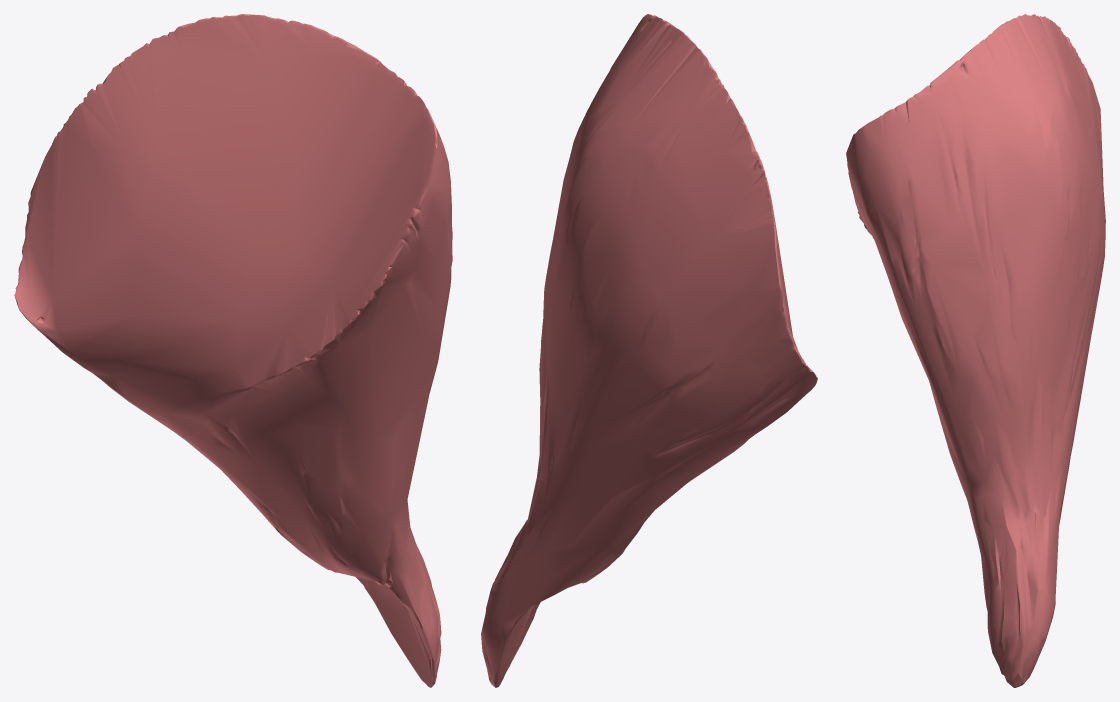
3 views of the same model, side by side, from view 1: azimuth 30°, elevation 25°; view 2: azimuth 150°, elevation 25°; view 3: azimuth 270°, elevation 25° (orthographic). The views are drawn at different scales.
Visible parts, largest first — view 1: FJ1420M; view 2: FJ1420M; view 3: FJ1420M.
Boxes of the visible parts, x1,y1,x2,y2 form: FJ1420M: (14, 14, 452, 687); FJ1420M: (481, 14, 817, 687); FJ1420M: (846, 14, 1105, 687).
Bounding box in the file's own units: 0.077 × 0.1392 × 0.0556.
